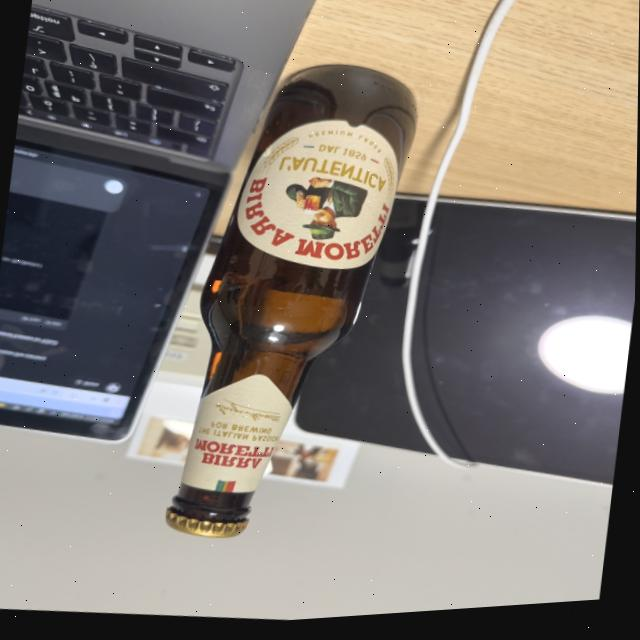beer: (160, 49, 428, 565)
